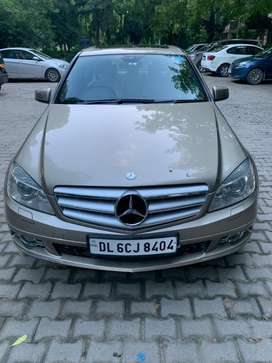DL6CJ8404: (89, 235, 176, 255)
